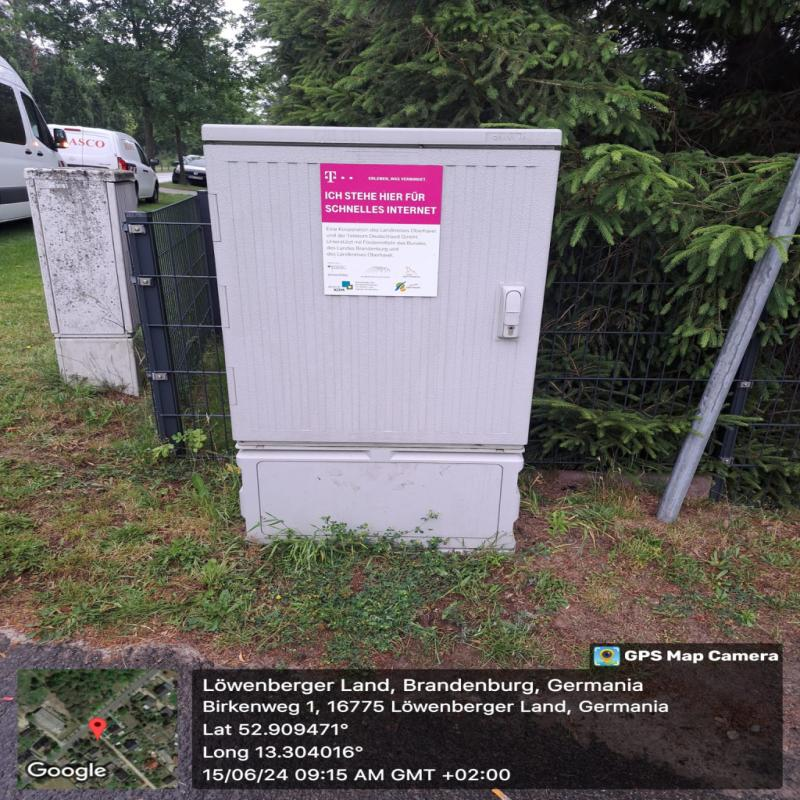NT-Gehause: (197, 123, 565, 552)
Steaker: (318, 160, 444, 296)
